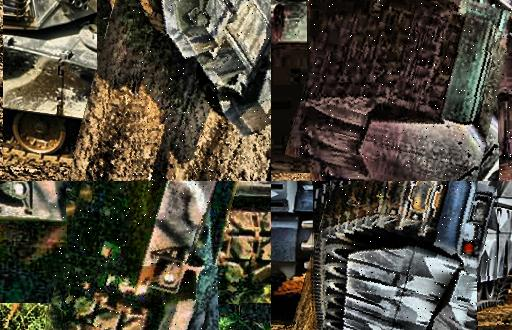tanks: (297, 1, 512, 182), (313, 182, 498, 330), (57, 182, 239, 330), (140, 1, 272, 134)
